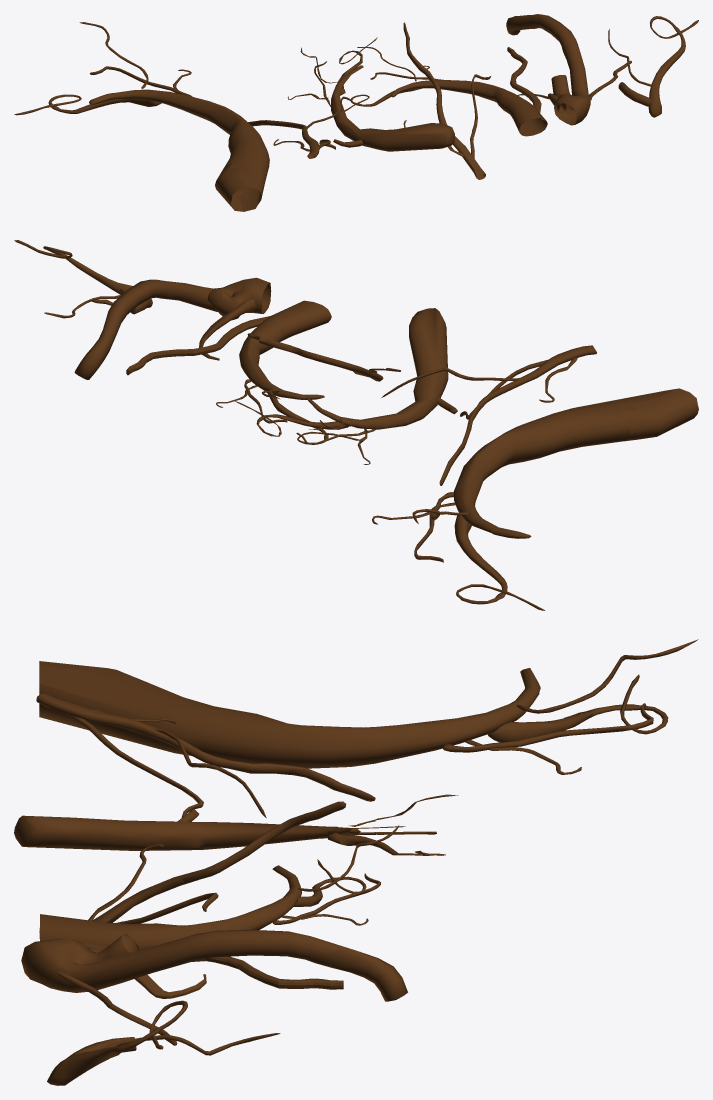
Rendered from racines.FBX.
The picture shows the model from 3 angles, top to bottom: view 1: azimuth 30°, elevation 25°; view 2: azimuth 150°, elevation 25°; view 3: azimuth 270°, elevation 25°; orthographic projection. The views are drawn at different scales.
Parts seen in each view (by area): view 1: racine (×7); view 2: racine (×7); view 3: racine (×7).
Boxes of the visible parts, x1,y1,x2,y2 form: racine (×7): (14,14,698,211); racine (×7): (14,240,698,610); racine (×7): (14,639,698,1085).
Bounding box in the file's own units: 1506 × 246 × 912.
